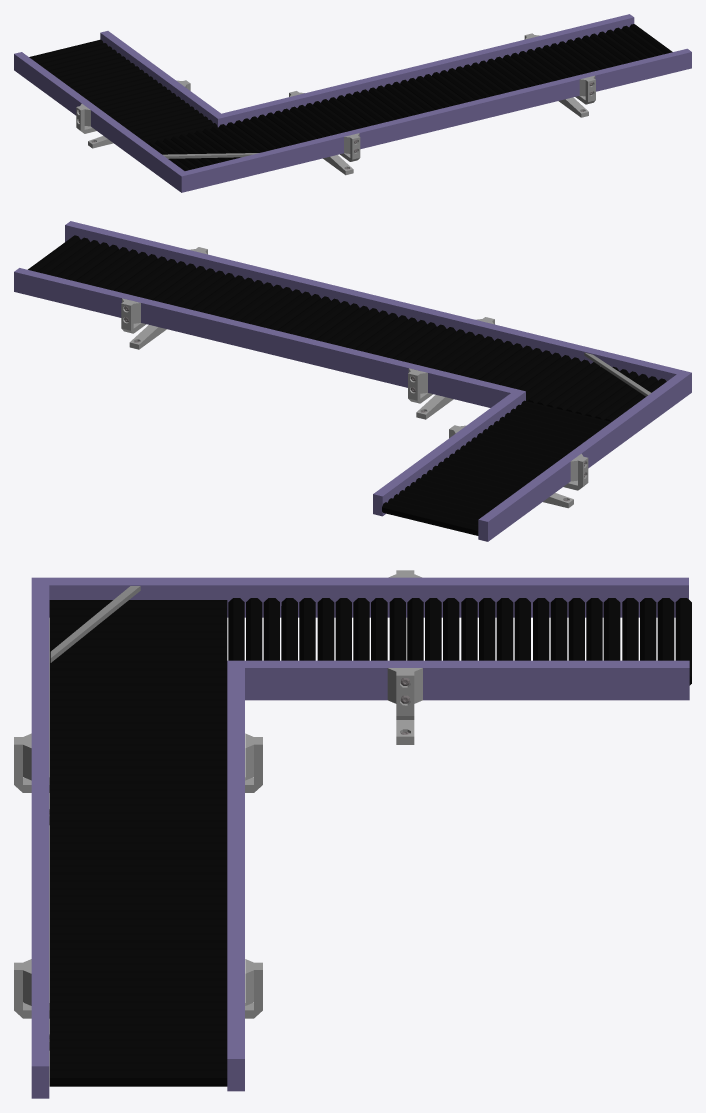
Rendered from conveyor2.fbx.
3 views of the same model, one above another, from view 1: azimuth 30°, elevation 25°; view 2: azimuth 150°, elevation 25°; view 3: azimuth 270°, elevation 25° (orthographic). The views are drawn at different scales.
Visible parts, largest first — view 1: ConveyorBelt; view 2: ConveyorBelt; view 3: ConveyorBelt.
Part boxes in pixels (bbox=[...]): ConveyorBelt: bbox=[14, 14, 691, 192]; ConveyorBelt: bbox=[14, 221, 691, 541]; ConveyorBelt: bbox=[14, 570, 691, 1098].
Size of the model in its own units: 1320 by 100 by 762.
